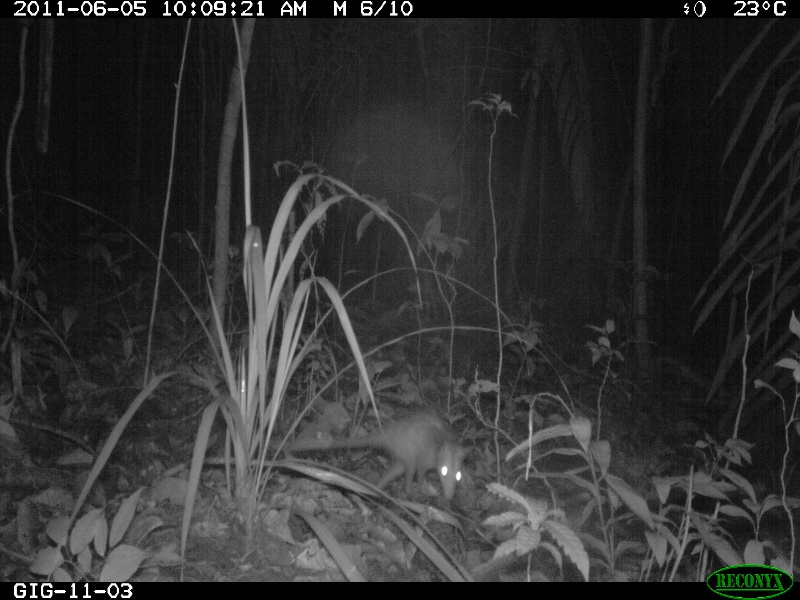opossum: (253, 414, 471, 497)
